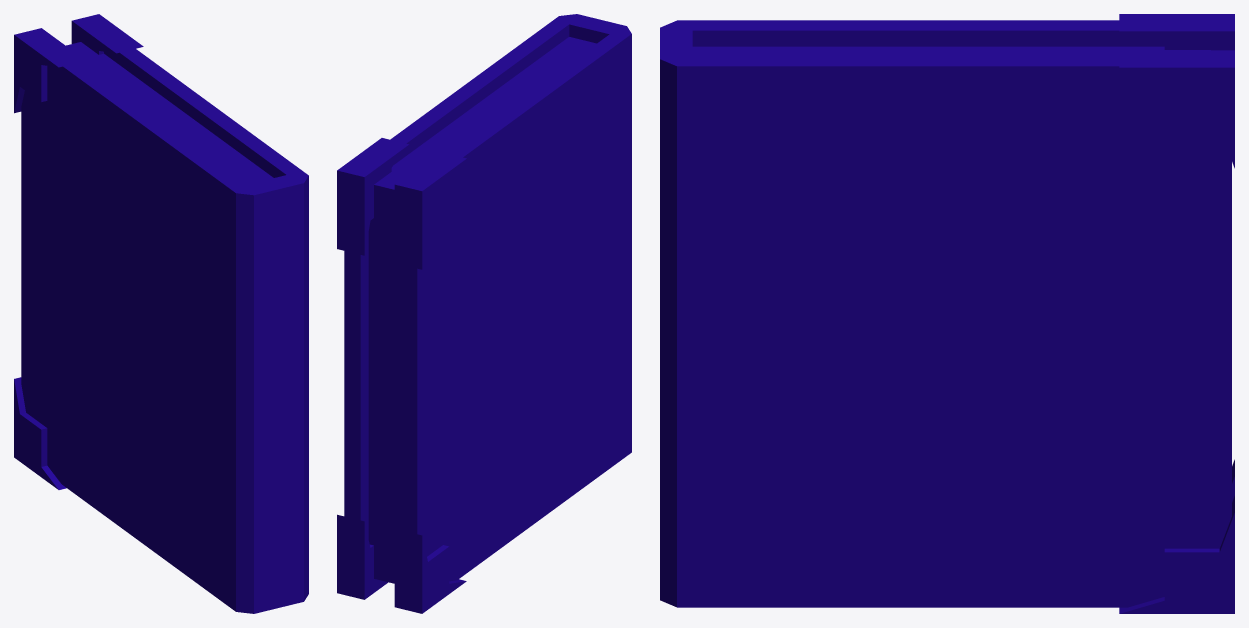
Rendered from CG_Model_TownInt_Book2_Mar24_ChrisMcknight.FBX.
3 renders of one model, left to right at view 1: azimuth 30°, elevation 25°; view 2: azimuth 150°, elevation 25°; view 3: azimuth 270°, elevation 25°, orthographic. The views are drawn at different scales.
Parts seen in each view (by area): view 1: Book2; view 2: Book2; view 3: Book2.
Part boxes in pixels (bbox=[...]): Book2: bbox=[14, 14, 308, 613]; Book2: bbox=[337, 14, 631, 613]; Book2: bbox=[660, 14, 1234, 613].
Bounding box in the file's own units: 0.688 × 3.27 × 3.11.
